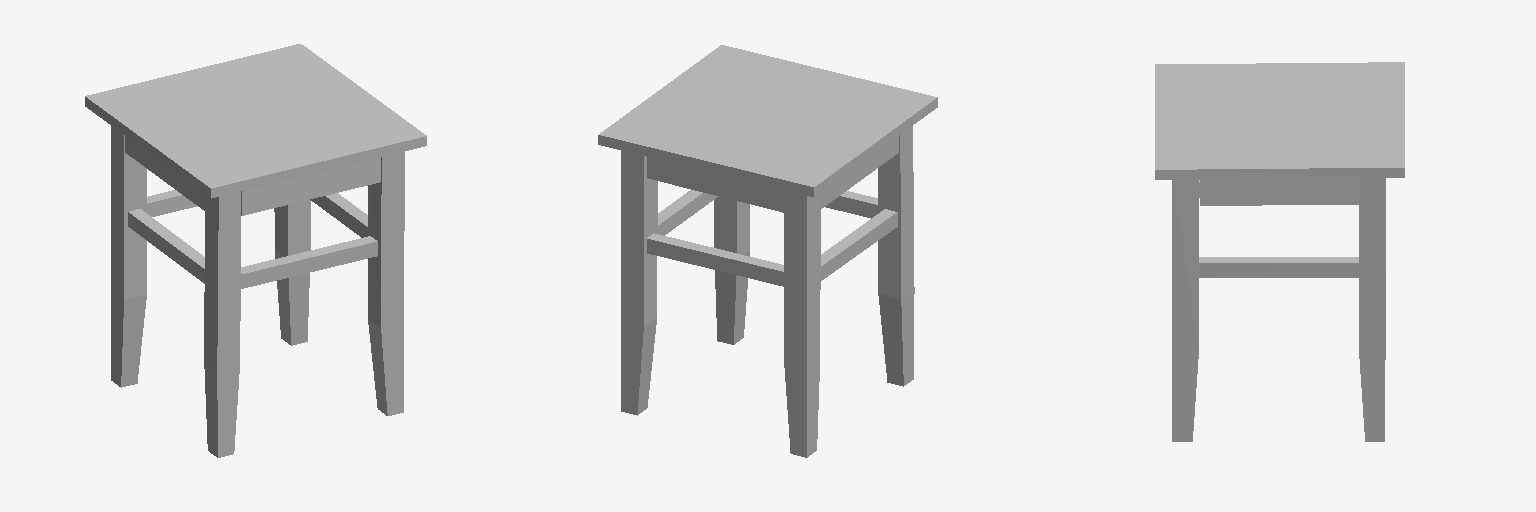
Rendered from Stool2_LP.obj.
3 views of the same model, side by side, from view 1: azimuth 30°, elevation 25°; view 2: azimuth 150°, elevation 25°; view 3: azimuth 270°, elevation 25° (orthographic).
Parts seen in each view (by area): view 1: Stool_LP; view 2: Stool_LP; view 3: Stool_LP.
Boxes of the visible parts, box(x1,y1,x2,y2) form: Stool_LP: box(85, 44, 426, 457); Stool_LP: box(598, 45, 937, 457); Stool_LP: box(1155, 62, 1404, 441).
Bounding box in the file's own units: 418 × 517 × 415.